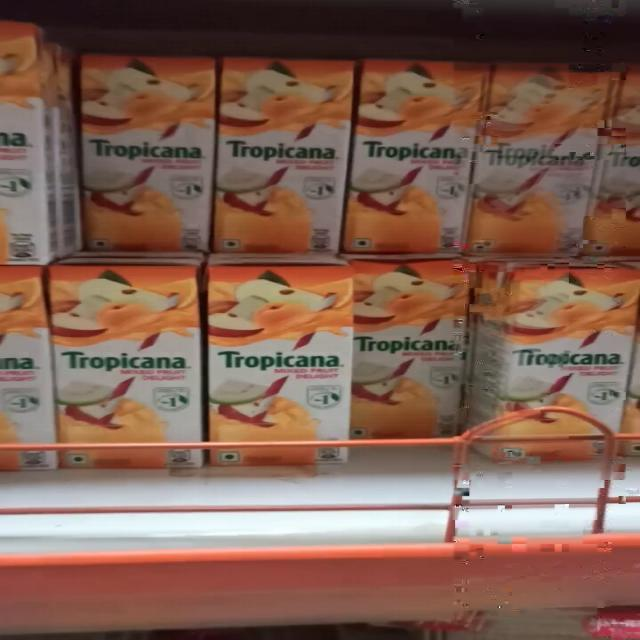Tropicana: (43, 267, 201, 474), (208, 49, 360, 249), (211, 255, 355, 462), (354, 250, 481, 460), (81, 46, 211, 250), (357, 52, 486, 252)
